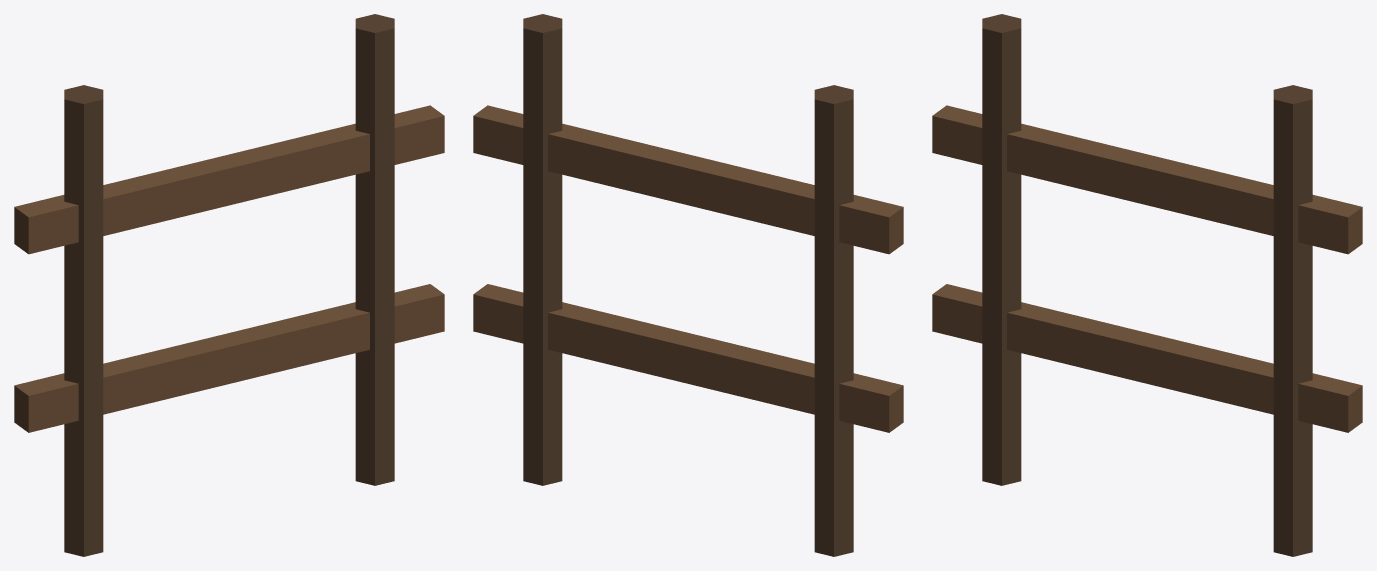
The model's file is paddock_rail.glb.
The picture shows the model from 3 angles, left to right: view 1: azimuth 30°, elevation 25°; view 2: azimuth 150°, elevation 25°; view 3: azimuth 330°, elevation 25°; orthographic projection.
Parts seen in each view (by area): view 1: Paddock rail; view 2: Paddock rail; view 3: Paddock rail.
Part boxes in pixels (<box>): Paddock rail: <box>14,14,444,556</box>; Paddock rail: <box>473,14,903,556</box>; Paddock rail: <box>932,14,1362,556</box>.
Size of the model in its own units: 1 by 1.04 by 0.0814.
